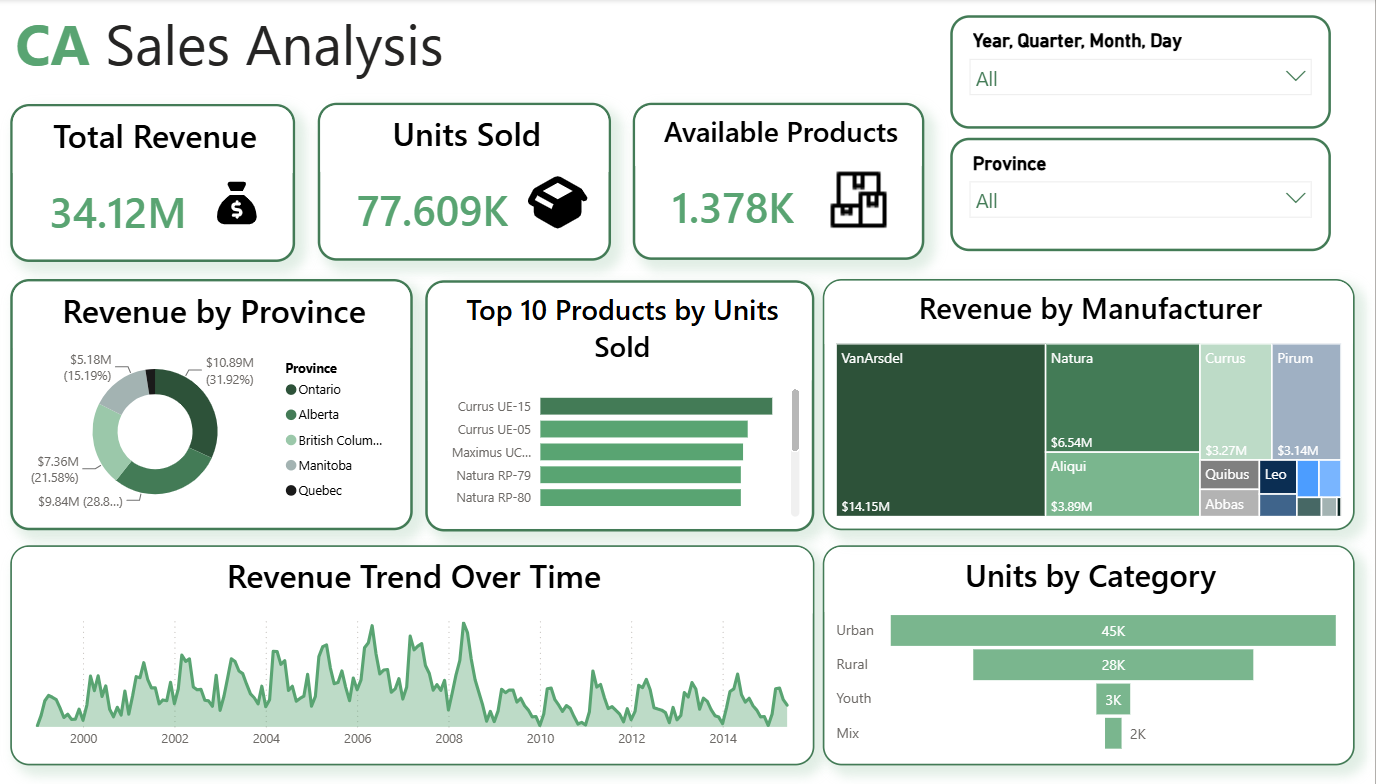

Layout of this report page (visuals, bound fields, positions):
{"tool":"powerbi","page":{"name":"CA Sales Analysis","canvas":[1300,740],"ordinal":1},"visuals":[{"type":"textbox","box":[10.6,0,558.6,89.8],"z":0},{"type":"cardVisual","title":"Total Revenue","fields":{"Data":["Sum(Fact Sales.Revenue)"]},"box":[10.6,100.4,270.9,150],"z":1},{"type":"cardVisual","title":"Units Sold","fields":{"Data":["Sum(Fact Sales.Units)"]},"box":[303.5,100.4,279.1,150],"z":2},{"type":"cardVisual","title":"Available Products ","fields":{"Data":["Count(Dim Product.Product)"]},"box":[603.5,98,278,151.3],"z":3},{"type":"donutChart","title":"Revenue by Province","fields":{"Category":["Dim Country.Province"],"Y":["Sum(Fact Sales.Revenue)"]},"box":[10.6,266.9,383.5,239.2],"z":4},{"type":"slicer","fields":{"Values":["Dim Date.Date.Variation.Date Hierarchy.Year","Dim Date.Date.Variation.Date Hierarchy.Quarter","Dim Date.Date.Variation.Date Hierarchy.Month","Dim Date.Date.Variation.Date Hierarchy.Day"]},"box":[905.4,15.2,362.4,107.9],"z":5},{"type":"slicer","fields":{"Values":["Dim Country.Province"]},"box":[905.4,132.5,362.4,107.9],"z":6},{"type":"lineStackedColumnComboChart","title":"Top 10 Products by Units Sold","fields":{"Category":["Dim Product.Product"],"Y":["Sum(Fact Sales.Units)"]},"box":[406.3,268.1,370.6,239.2],"z":7},{"type":"lineChart","title":"Revenue Trend Over Time","fields":{"Category":["Dim Date.Date.Variation.Date Hierarchy.Year","Dim Date.Date.Variation.Date Hierarchy.Quarter","Dim Date.Date.Variation.Date Hierarchy.Month","Dim Date.Date.Variation.Date Hierarchy.Day"],"Y":["Sum(Fact Sales.Revenue)"]},"box":[10.6,519.6,765.8,209.9],"z":8},{"type":"image","box":[191.3,168.9,69.2,50.4],"z":10},{"type":"image","box":[494.8,163,73.9,61],"z":11},{"type":"image","box":[765.8,160.7,104.4,61],"z":12},{"type":"funnel","title":"Units by Category","fields":{"Category":["Dim Product.Category"],"Y":["Sum(Fact Sales.Units)"]},"box":[784.2,519.6,506.6,209.9],"z":13},{"type":"treemap","title":"Revenue by Manufacturer","fields":{"Group":["Dim Product.Manufacturer"],"Values":["Sum(Fact Sales.Revenue)"]},"box":[784.2,266.9,506.6,239.2],"z":14}]}

Visuals, with their boxes in screenshot pixels (x1, y1, x2, y2), scaled from the page's 1300x740 canvas onto the 1376x784 screenshot:
textbox: BBox(11, 0, 602, 95)
"Total Revenue" cardVisual: BBox(11, 106, 298, 265)
"Units Sold" cardVisual: BBox(321, 106, 617, 265)
"Available Products " cardVisual: BBox(639, 104, 933, 264)
"Revenue by Province" donutChart: BBox(11, 283, 417, 536)
slicer - Dim Date.Date.Variation.Date Hierarchy.Year x Dim Date.Date.Variation.Date Hierarchy.Quarter: BBox(958, 16, 1342, 130)
slicer - Dim Country.Province: BBox(958, 140, 1342, 255)
"Top 10 Products by Units Sold" lineStackedColumnComboChart: BBox(430, 284, 822, 537)
"Revenue Trend Over Time" lineChart: BBox(11, 550, 822, 773)
image: BBox(202, 179, 276, 232)
image: BBox(524, 173, 602, 237)
image: BBox(811, 170, 921, 235)
"Units by Category" funnel: BBox(830, 550, 1366, 773)
"Revenue by Manufacturer" treemap: BBox(830, 283, 1366, 536)
